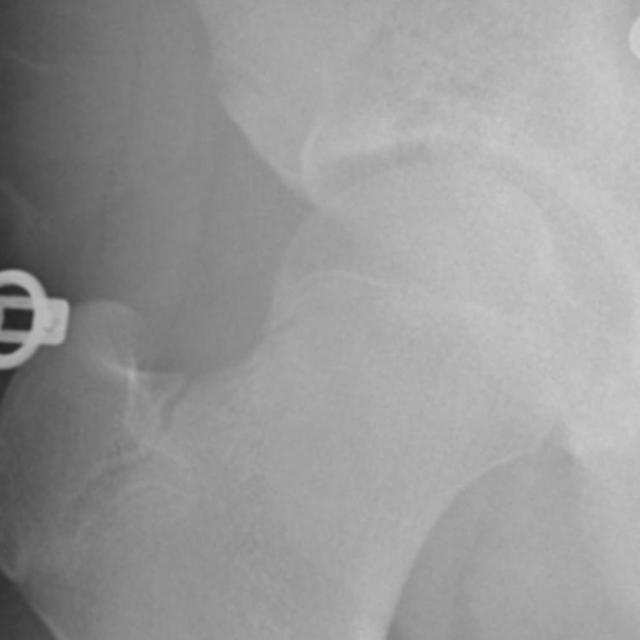Fitted_femural_head: (324, 166, 432, 324)
